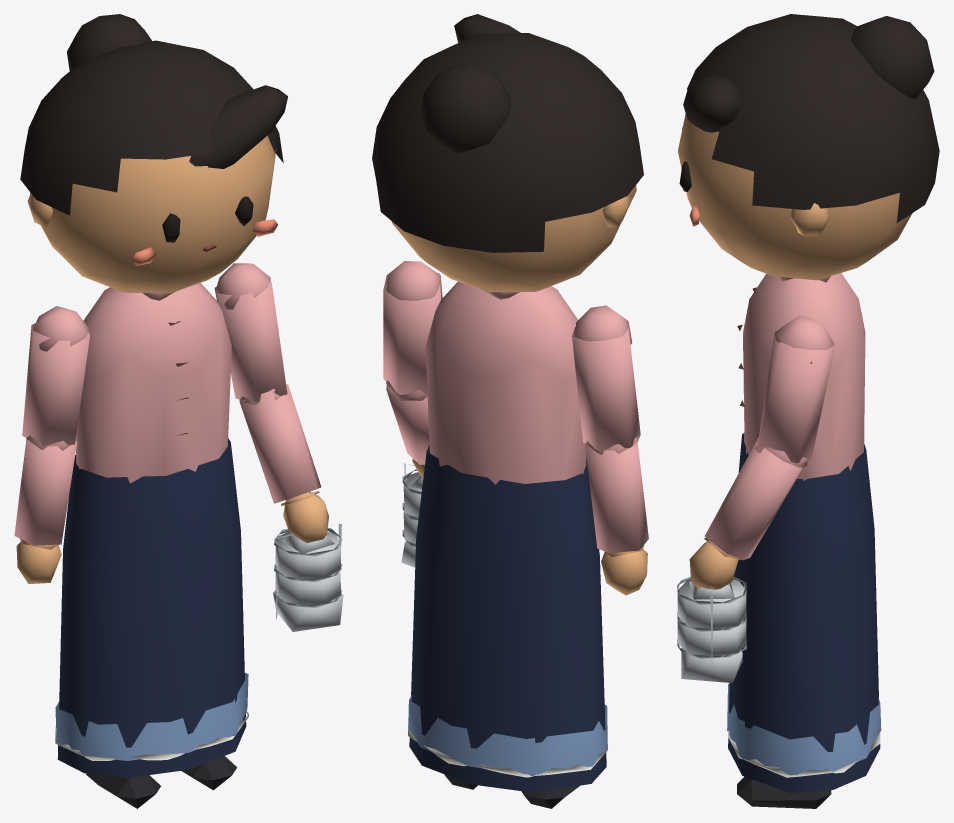
Rendered from south_baba_woman.glb.
The picture shows the model from 3 angles, left to right: view 1: azimuth 30°, elevation 25°; view 2: azimuth 150°, elevation 25°; view 3: azimuth 270°, elevation 25°; orthographic projection. The views are drawn at different scales.
Parts seen in each view (by area): view 1: body, head, arm_R, forearm_L, arm_L, forearm_R, prop_tiffin, shin_R, shin_L; view 2: body, head, arm_R, forearm_R, arm_L, forearm_L, prop_tiffin, shin_R; view 3: head, body, arm_L, forearm_L, prop_tiffin, shin_L.
Boxes of the visible parts, x1=… form: body: x1=55, y1=283, x2=248, y2=777; head: x1=20, y1=14, x2=287, y2=293; arm_R: x1=22, y1=306, x2=89, y2=450; forearm_L: x1=239, y1=384, x2=328, y2=542; arm_L: x1=214, y1=263, x2=287, y2=405; forearm_R: x1=14, y1=438, x2=77, y2=583; prop_tiffin: x1=273, y1=524, x2=343, y2=631; shin_R: x1=86, y1=773, x2=160, y2=808; shin_L: x1=181, y1=756, x2=236, y2=790; body: x1=408, y1=281, x2=608, y2=792; head: x1=372, y1=14, x2=643, y2=292; arm_R: x1=572, y1=305, x2=640, y2=454; forearm_R: x1=585, y1=442, x2=648, y2=595; arm_L: x1=383, y1=261, x2=442, y2=398; forearm_L: x1=386, y1=385, x2=429, y2=477; prop_tiffin: x1=401, y1=463, x2=423, y2=567; shin_R: x1=521, y1=785, x2=579, y2=808; head: x1=678, y1=14, x2=939, y2=280; body: x1=727, y1=273, x2=881, y2=792; arm_L: x1=755, y1=315, x2=835, y2=465; forearm_L: x1=689, y1=437, x2=807, y2=589; prop_tiffin: x1=677, y1=577, x2=746, y2=682; shin_L: x1=737, y1=776, x2=831, y2=808.
Size of the model in its own units: 0.5885 by 1.48 by 0.4576.
